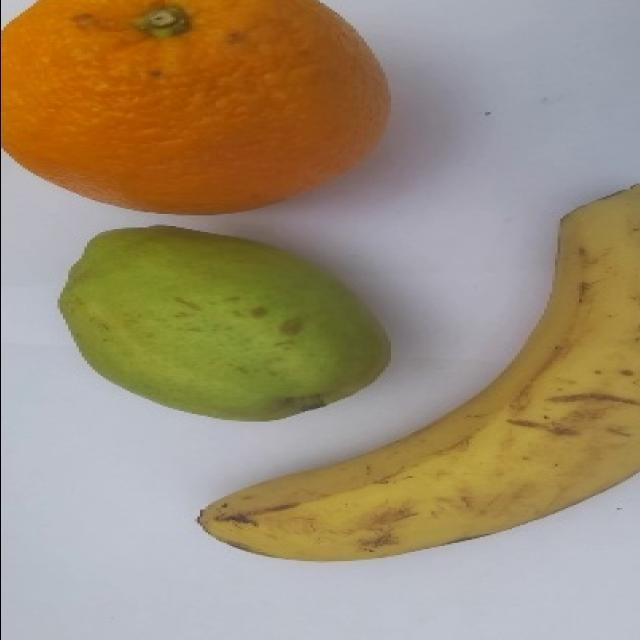Banana: (196, 182, 639, 562)
Orange: (1, 0, 391, 215)
